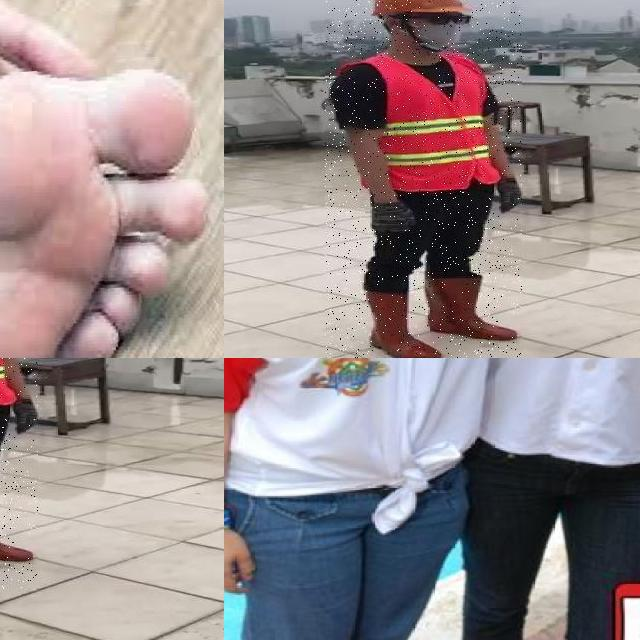Barefoots: (0, 59, 210, 358)
boots: (424, 277, 520, 339), (362, 287, 442, 358), (0, 498, 36, 560)
hand_noglove: (224, 524, 269, 601)
head_helmet: (364, 0, 471, 19)
person: (224, 358, 482, 640), (325, 0, 522, 358), (468, 358, 640, 640)
vest: (350, 55, 496, 189)
